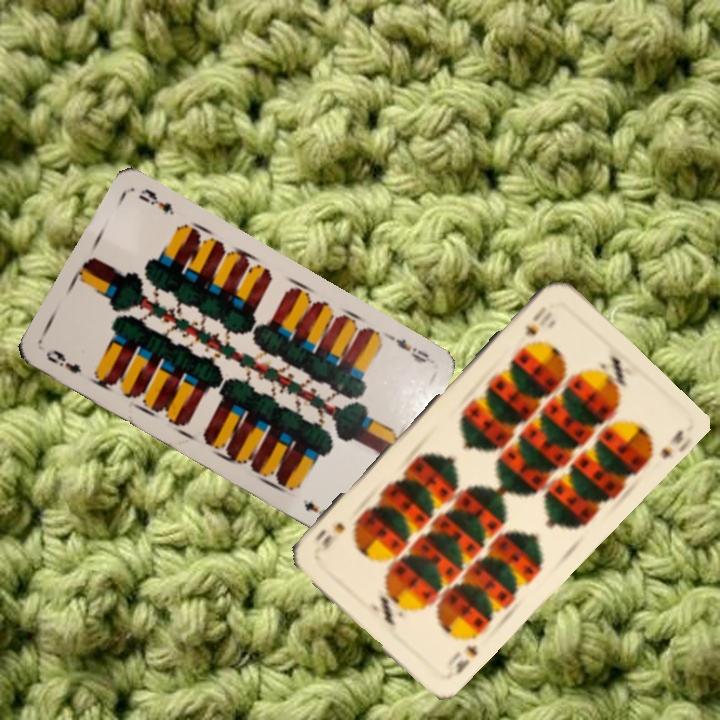E9: (383, 330, 438, 367), (41, 345, 85, 377)
S10: (451, 628, 481, 677), (521, 302, 549, 339)
